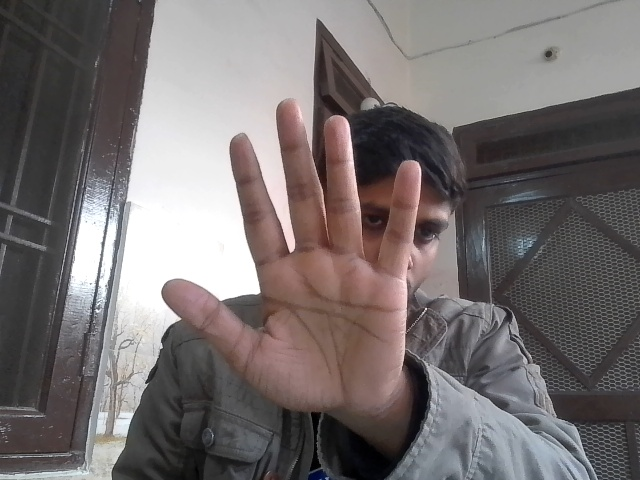Hello: (158, 96, 420, 428)
